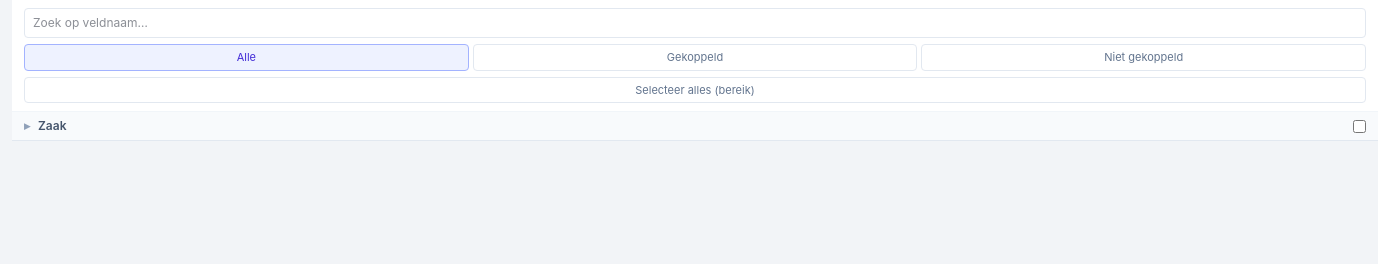
Scenario: SourceSchemaPanel › expands arbitrarily deep nesting, not just one level
Click the button with test id "schema-group-toggle-Zaak".
click(27, 126)  # box [12,112,1345,140]
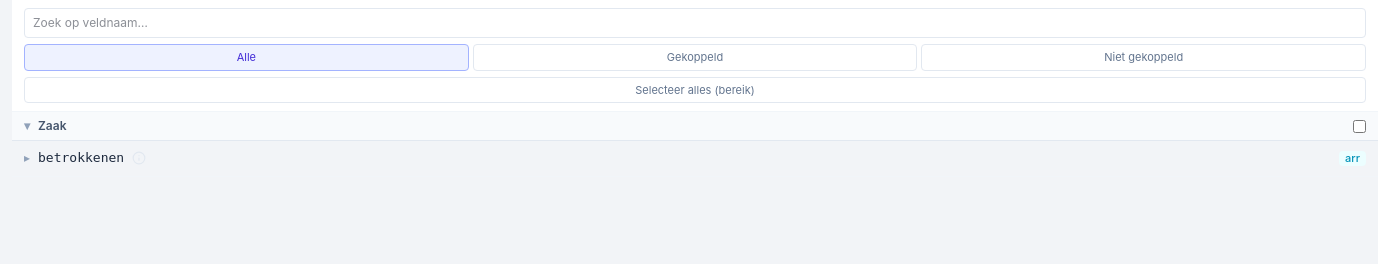
Click the button with test id "field-toggle-Zaak.betrokkenen".
click(74, 158)  # box [24,149,124,168]
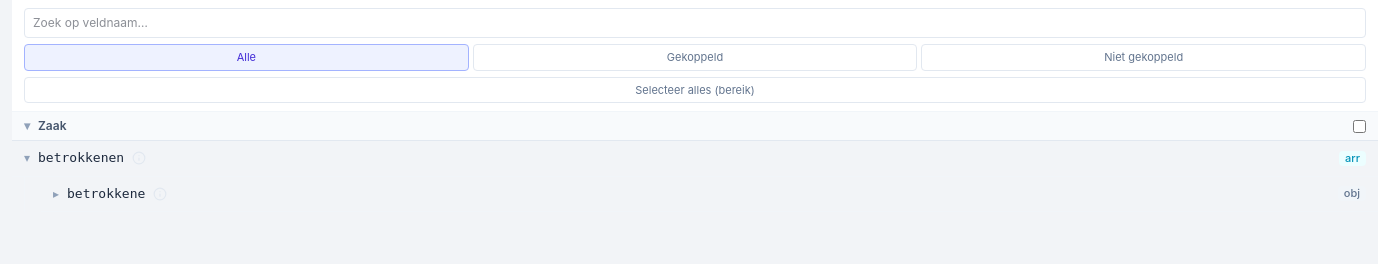
Expected: the button with test id "field-toggle-Zaak.betrokkenen.betrokkene" is shown
Expected: the element with test id "field-children-Zaak.betrokkenen" is shown, [24,177,1377,212]
Click the button with test id "field-toggle-Zaak.betrokkenen.betrokkene".
click(99, 194)  # box [53,185,145,203]
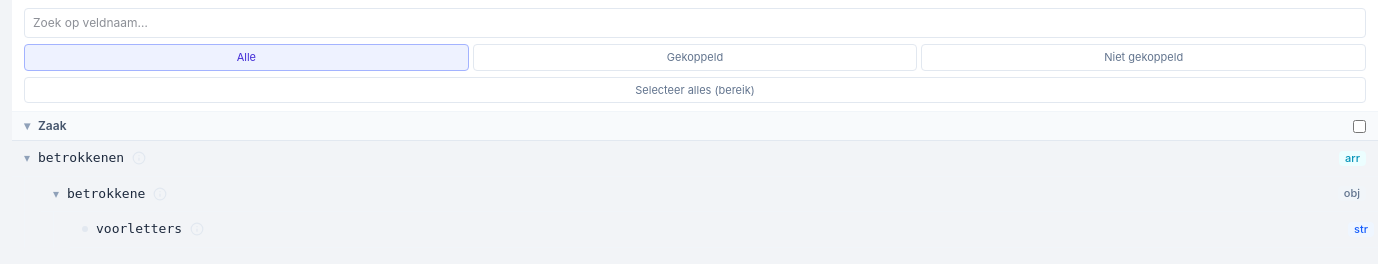
Expected: the element with test id "field-children-Zaak.betrokkenen.betrokkene" is shown, [53,212,1377,248]
Expected: the element showing "voorletters str" is shown, [70,212,1377,248]
